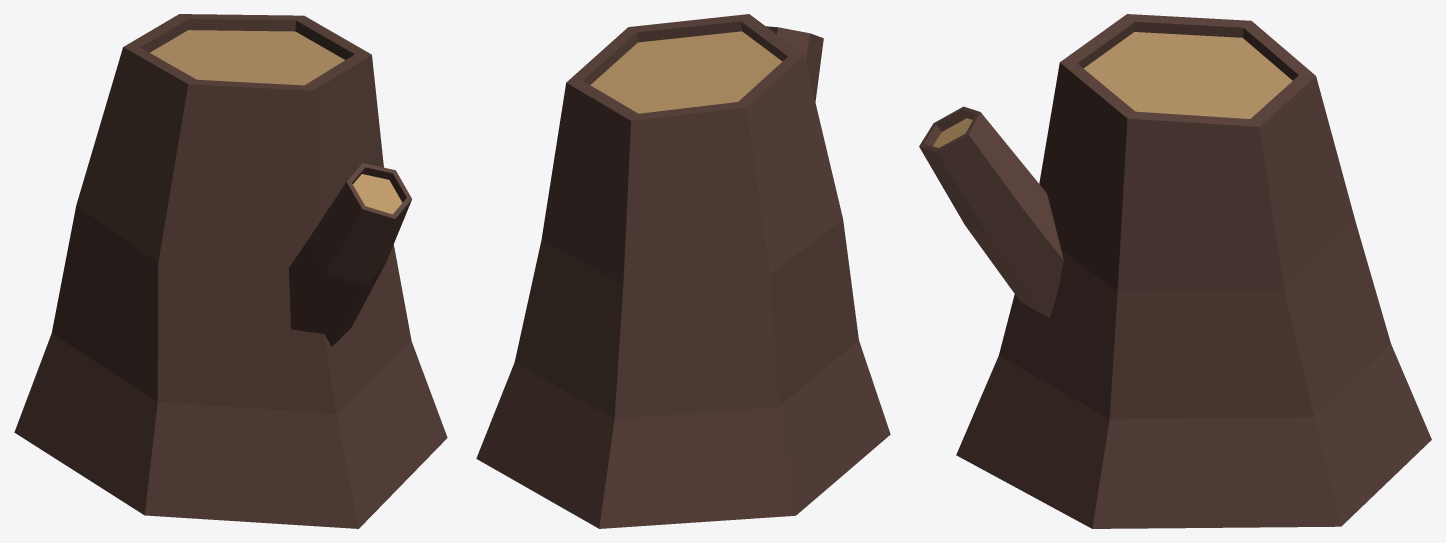
Rendered from TreeTrunk(1).fbx.
3 views of the same model, side by side, from view 1: azimuth 30°, elevation 25°; view 2: azimuth 150°, elevation 25°; view 3: azimuth 270°, elevation 25° (orthographic). The views are drawn at different scales.
Visible parts, largest first — view 1: TreeTrunk(1); view 2: TreeTrunk(1); view 3: TreeTrunk(1).
Boxes of the visible parts, x1,y1,x2,y2 form: TreeTrunk(1): (14,14,447,528); TreeTrunk(1): (476,14,890,528); TreeTrunk(1): (919,14,1431,528).
Size of the model in its own units: 0.9583 by 1.14 by 1.32.
